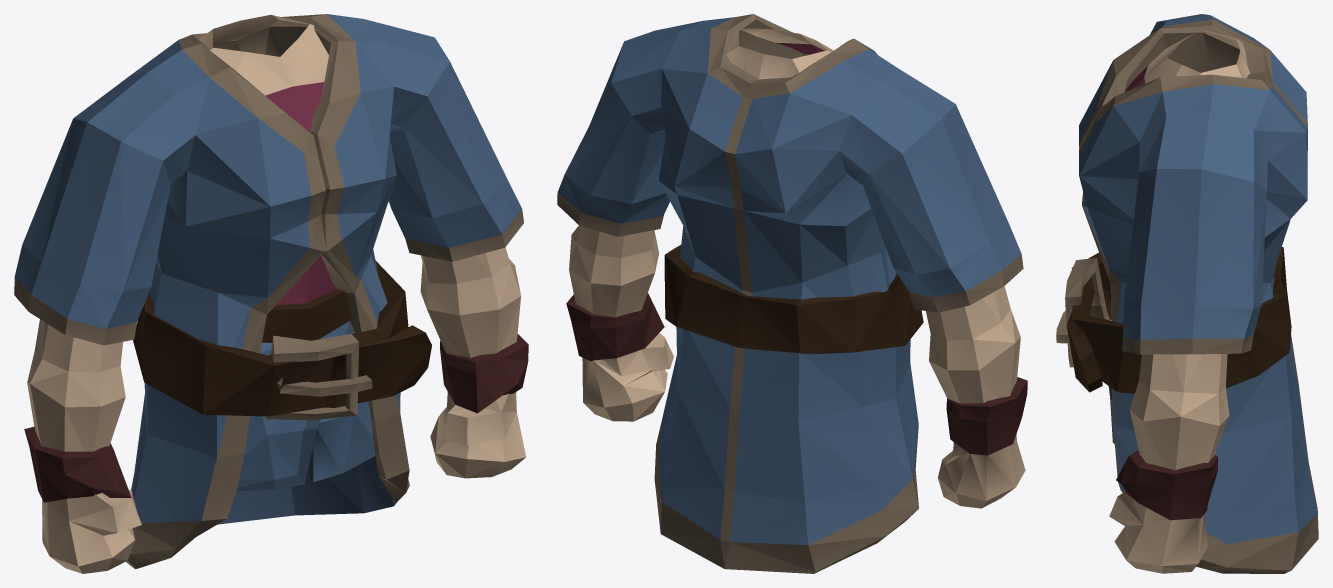
File: UniqueOrientalRobe.dae
3 renders of one model, left to right at view 1: azimuth 30°, elevation 25°; view 2: azimuth 150°, elevation 25°; view 3: azimuth 270°, elevation 25°, orthographic. The views are drawn at different scales.
Visible parts, largest first — view 1: Chestplate; view 2: Chestplate; view 3: Chestplate.
Part boxes in pixels (<box>): Chestplate: <box>14,14,528,573</box>; Chestplate: <box>557,14,1027,573</box>; Chestplate: <box>1056,14,1318,573</box>.
Size of the model in its own units: 5.2 by 2.66 by 5.48.
